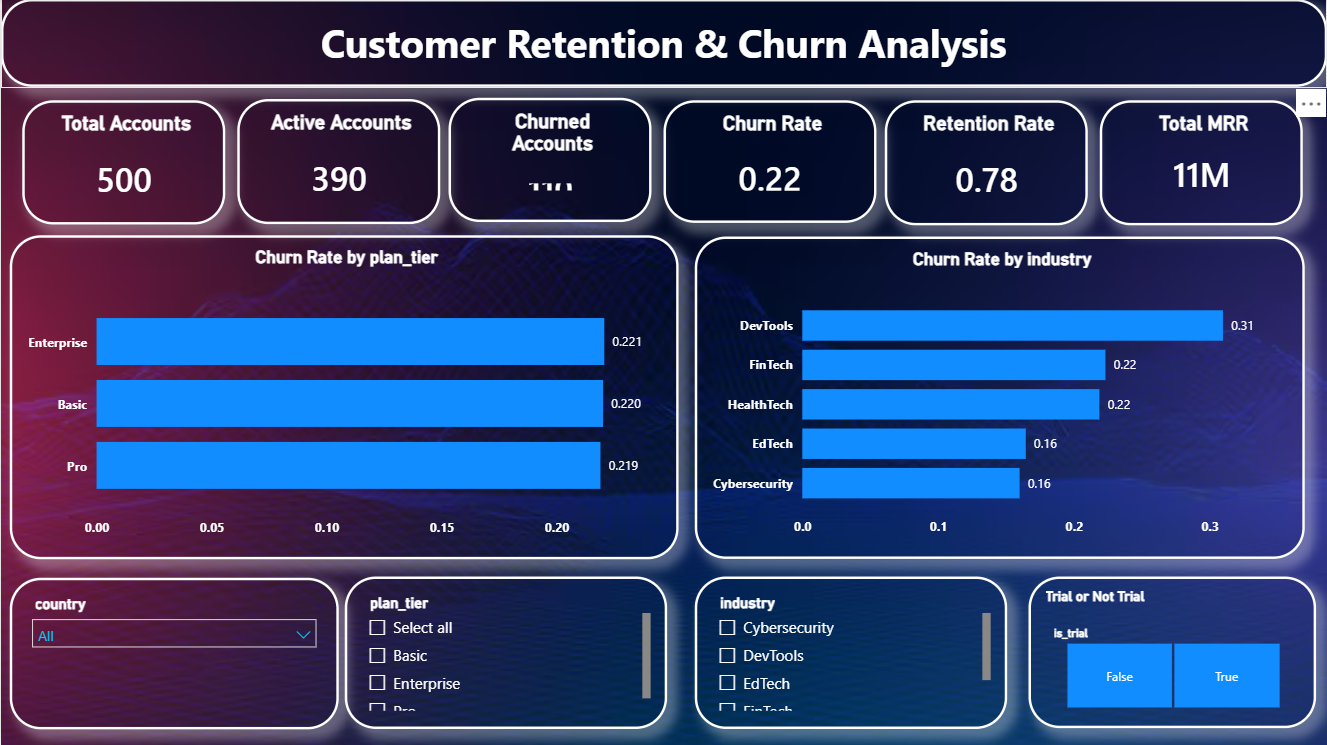

What the dashboard file says about the page in this screenshot:
{"tool":"powerbi","page":{"name":"CR & CA","canvas":[1280,720],"ordinal":0},"visuals":[{"type":"textbox","box":[0,0,1280.3,85.1],"z":0},{"type":"cardVisual","title":"Total Accounts","fields":{"Data":["ravenstack_accounts.Total Accounts"]},"box":[20,97.4,196.2,120],"z":1000},{"type":"cardVisual","title":"Churned Accounts","fields":{"Data":["ravenstack_accounts.Churned Accounts"]},"box":[432.1,94.9,196.2,120],"z":2000},{"type":"cardVisual","title":"Churn Rate","fields":{"Data":["ravenstack_accounts.Churn Rate"]},"box":[639.4,97.8,205.8,118.2],"z":3000},{"type":"cardVisual","title":"Active Accounts","fields":{"Data":["ravenstack_accounts.Active Accounts"]},"box":[227.7,96.4,196.2,120.8],"z":4000},{"type":"cardVisual","title":"Retention Rate","fields":{"Data":["ravenstack_accounts.Retention Rate"]},"box":[853.5,97.4,196.2,120.8],"z":5000},{"type":"cardVisual","title":"Total MRR","fields":{"Data":["ravenstack_subscriptions.Total MRR"]},"box":[1060.7,97.4,196.2,120.8],"z":6000},{"type":"clusteredBarChart","fields":{"Category":["ravenstack_accounts.plan_tier"],"Y":["ravenstack_accounts.Churn Rate"]},"box":[8.8,227.6,645.7,313],"z":7000},{"type":"barChart","fields":{"Category":["ravenstack_accounts.industry"],"Y":["ravenstack_accounts.Churn Rate"]},"box":[669.8,229.8,588.8,310.8],"z":8000},{"type":"slicer","fields":{"Values":["ravenstack_accounts.country"]},"box":[8.8,558.1,317.4,146.6],"z":9000},{"type":"slicer","fields":{"Values":["ravenstack_accounts.plan_tier"]},"box":[331.8,557.4,311.3,147.2],"z":10000},{"type":"slicer","fields":{"Values":["ravenstack_accounts.industry"]},"box":[669.6,557.4,301.6,147.2],"z":11000},{"type":"slicer","title":"Trial or Not Trial","fields":{"Values":["ravenstack_accounts.is_trial"]},"box":[991.7,557.4,277.5,146],"z":12000}]}

Visuals, with their boxes in screenshot pixels (x1, y1, x2, y2), scaled from the page's 1280x720 canvas onto the 1327x745 screenshot:
textbox: bbox=(0, 0, 1326, 88)
"Total Accounts" cardVisual: bbox=(21, 101, 224, 225)
"Churned Accounts" cardVisual: bbox=(448, 98, 651, 222)
"Churn Rate" cardVisual: bbox=(663, 101, 876, 224)
"Active Accounts" cardVisual: bbox=(236, 100, 439, 225)
"Retention Rate" cardVisual: bbox=(885, 101, 1088, 226)
"Total MRR" cardVisual: bbox=(1100, 101, 1303, 226)
clusteredBarChart - ravenstack_accounts.plan_tier x ravenstack_accounts.Churn Rate: bbox=(9, 236, 679, 559)
barChart - ravenstack_accounts.industry x ravenstack_accounts.Churn Rate: bbox=(694, 238, 1305, 559)
slicer - ravenstack_accounts.country: bbox=(9, 577, 338, 729)
slicer - ravenstack_accounts.plan_tier: bbox=(344, 577, 667, 729)
slicer - ravenstack_accounts.industry: bbox=(694, 577, 1007, 729)
"Trial or Not Trial" slicer: bbox=(1028, 577, 1316, 728)
